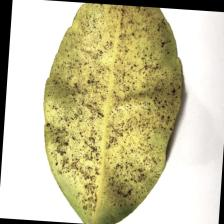canker: (60, 61, 156, 178)
